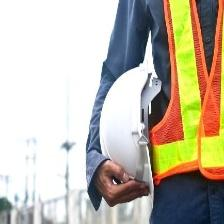vest: (147, 1, 224, 181)
